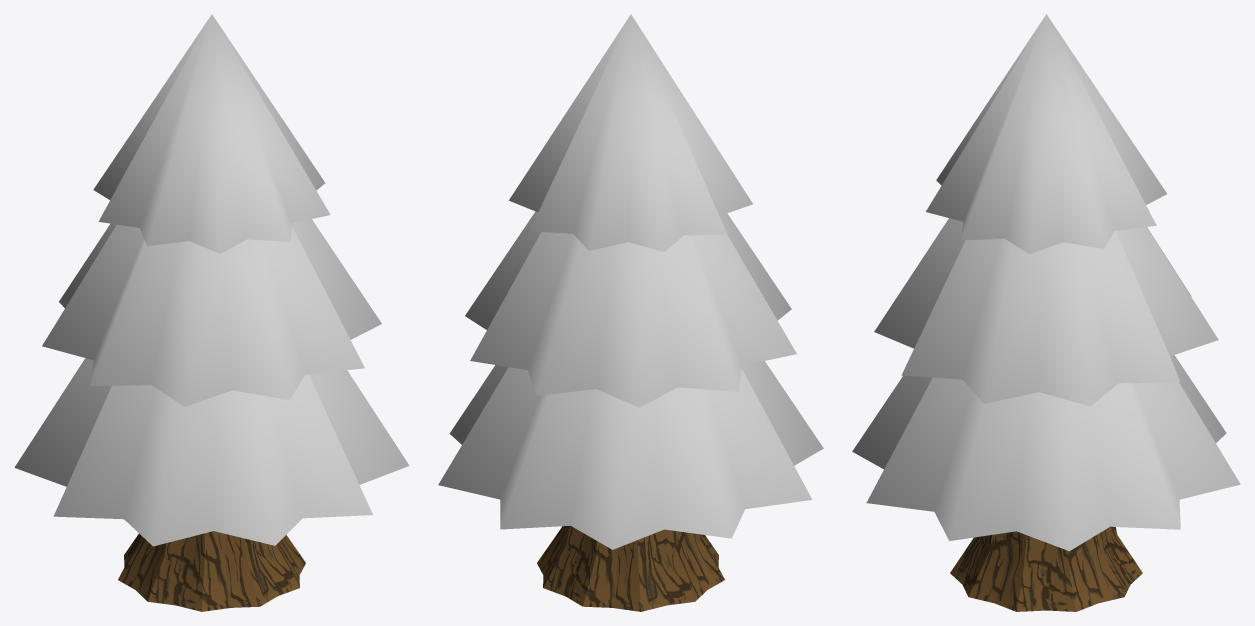
The model's file is Tree.fbx.
3 renders of one model, left to right at view 1: azimuth 30°, elevation 25°; view 2: azimuth 150°, elevation 25°; view 3: azimuth 270°, elevation 25°, orthographic.
Visible parts, largest first — view 1: Tree; view 2: Tree; view 3: Tree.
Boxes of the visible parts, x1,y1,x2,y2 form: Tree: (14, 14, 409, 611); Tree: (438, 14, 823, 611); Tree: (852, 14, 1240, 611).
Bounding box in the file's own units: 10.28 × 16.11 × 10.15.
